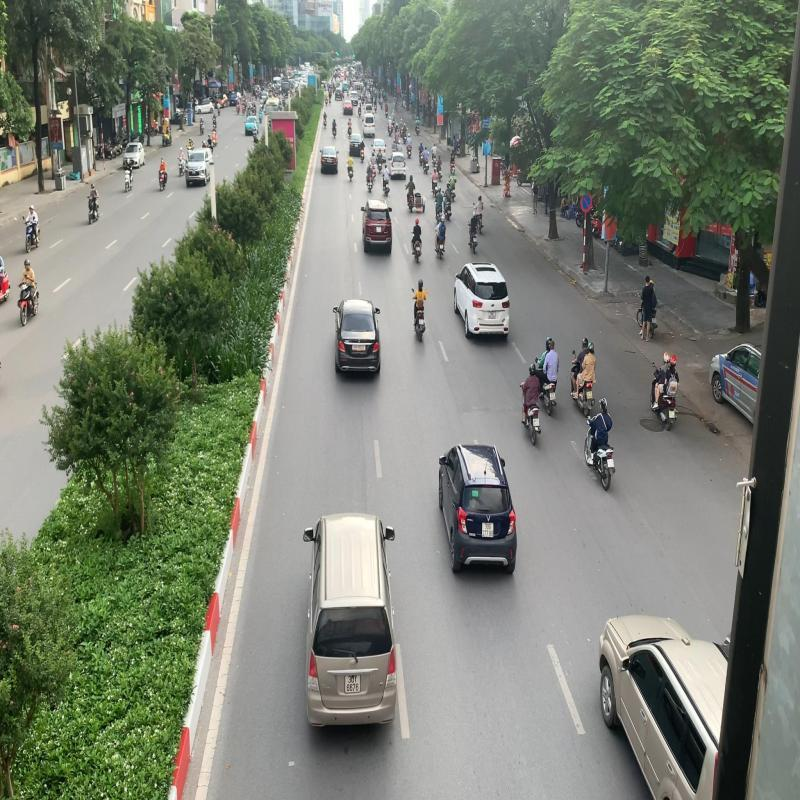helmet: (598, 397, 608, 410), (669, 353, 677, 366), (529, 363, 537, 375), (663, 351, 670, 363)
licenseplate: (607, 458, 614, 468), (534, 418, 540, 426), (669, 410, 675, 418)
motorcyclist: (584, 396, 617, 493), (650, 350, 680, 431), (519, 363, 542, 445)
